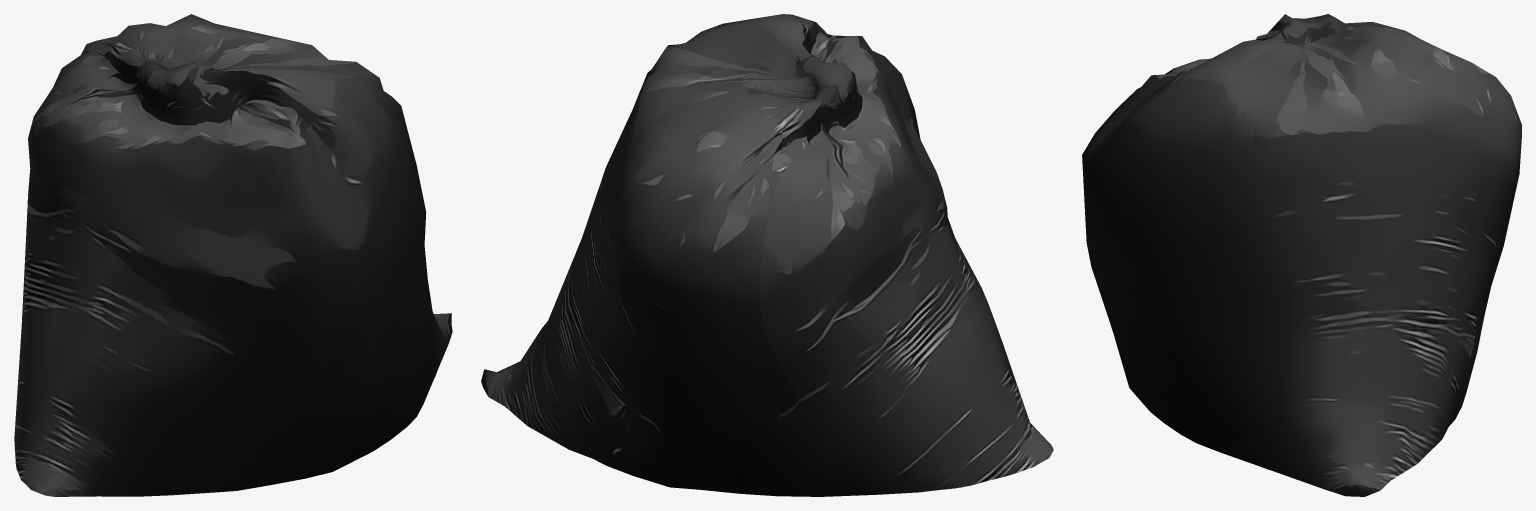
Rendered from plasticBag.glb.
The picture shows the model from 3 angles, left to right: view 1: azimuth 30°, elevation 25°; view 2: azimuth 150°, elevation 25°; view 3: azimuth 270°, elevation 25°; orthographic projection. The views are drawn at different scales.
Visible parts, largest first — view 1: Group24238; view 2: Group24238; view 3: Group24238.
Boxes of the visible parts, bbox=[...] form: Group24238: bbox=[14, 14, 452, 496]; Group24238: bbox=[481, 14, 1053, 496]; Group24238: bbox=[1082, 14, 1521, 496].
Size of the model in its own units: 168 by 119 by 139.
1 material, 1 textured.
